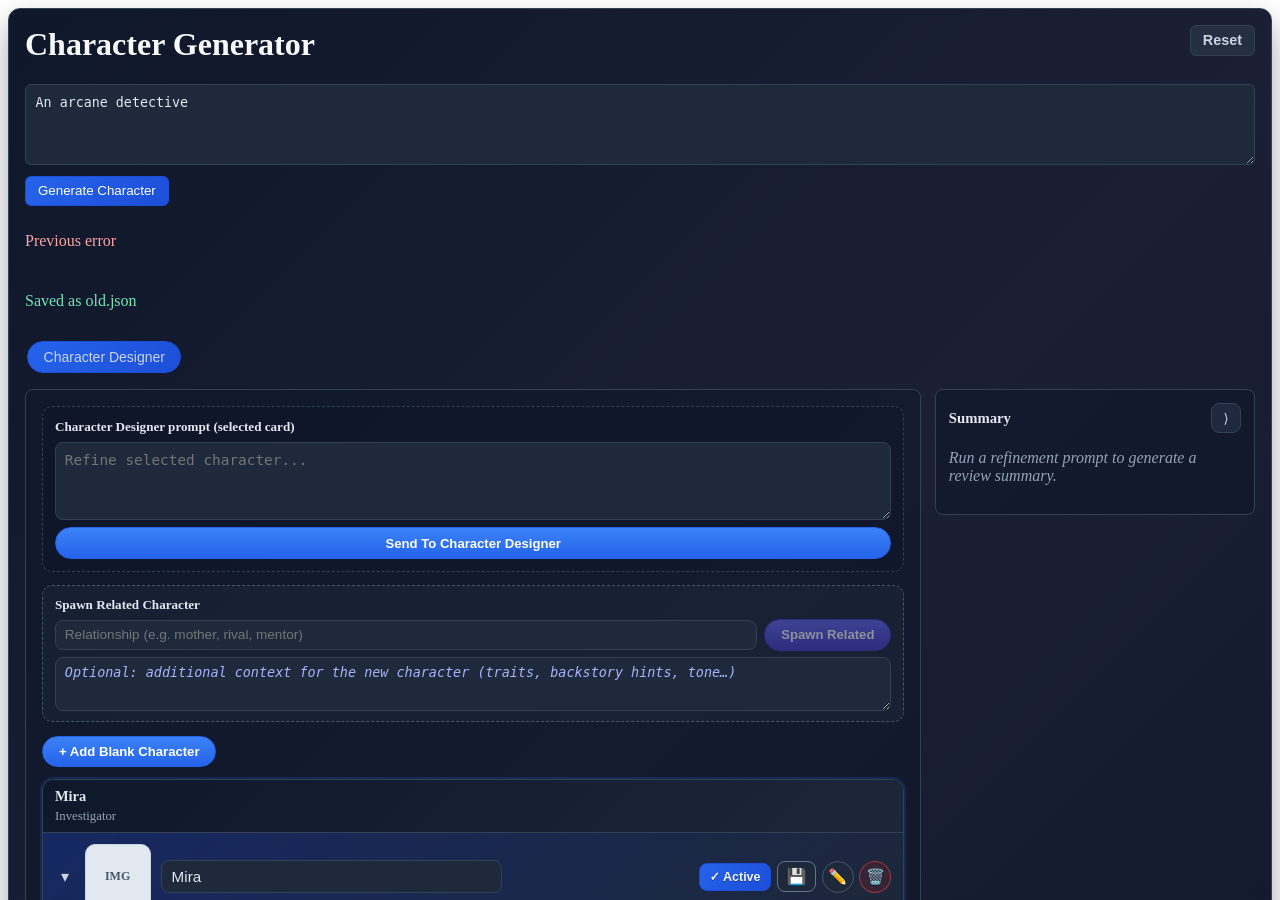
Test: CharacterPage draft persistence › resets page after confirmation
What coordinates should you click on to do the following:
click the button "Reset"
I would click on:
 (1222, 40)
Its box is [1190, 25, 1255, 56].
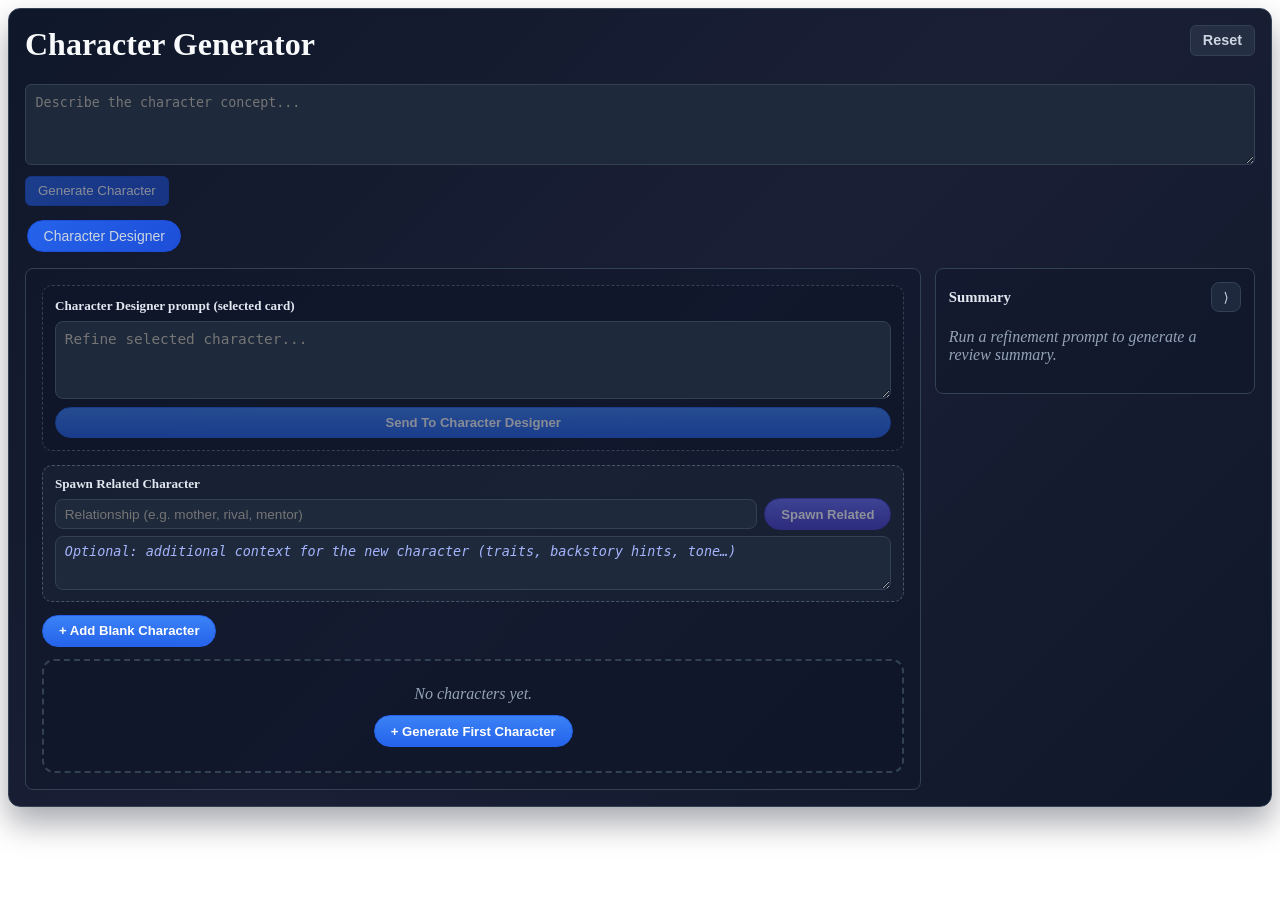
Expected: the text box with placeholder "Describe the character concept..." is empty, [25, 84, 1255, 165]
